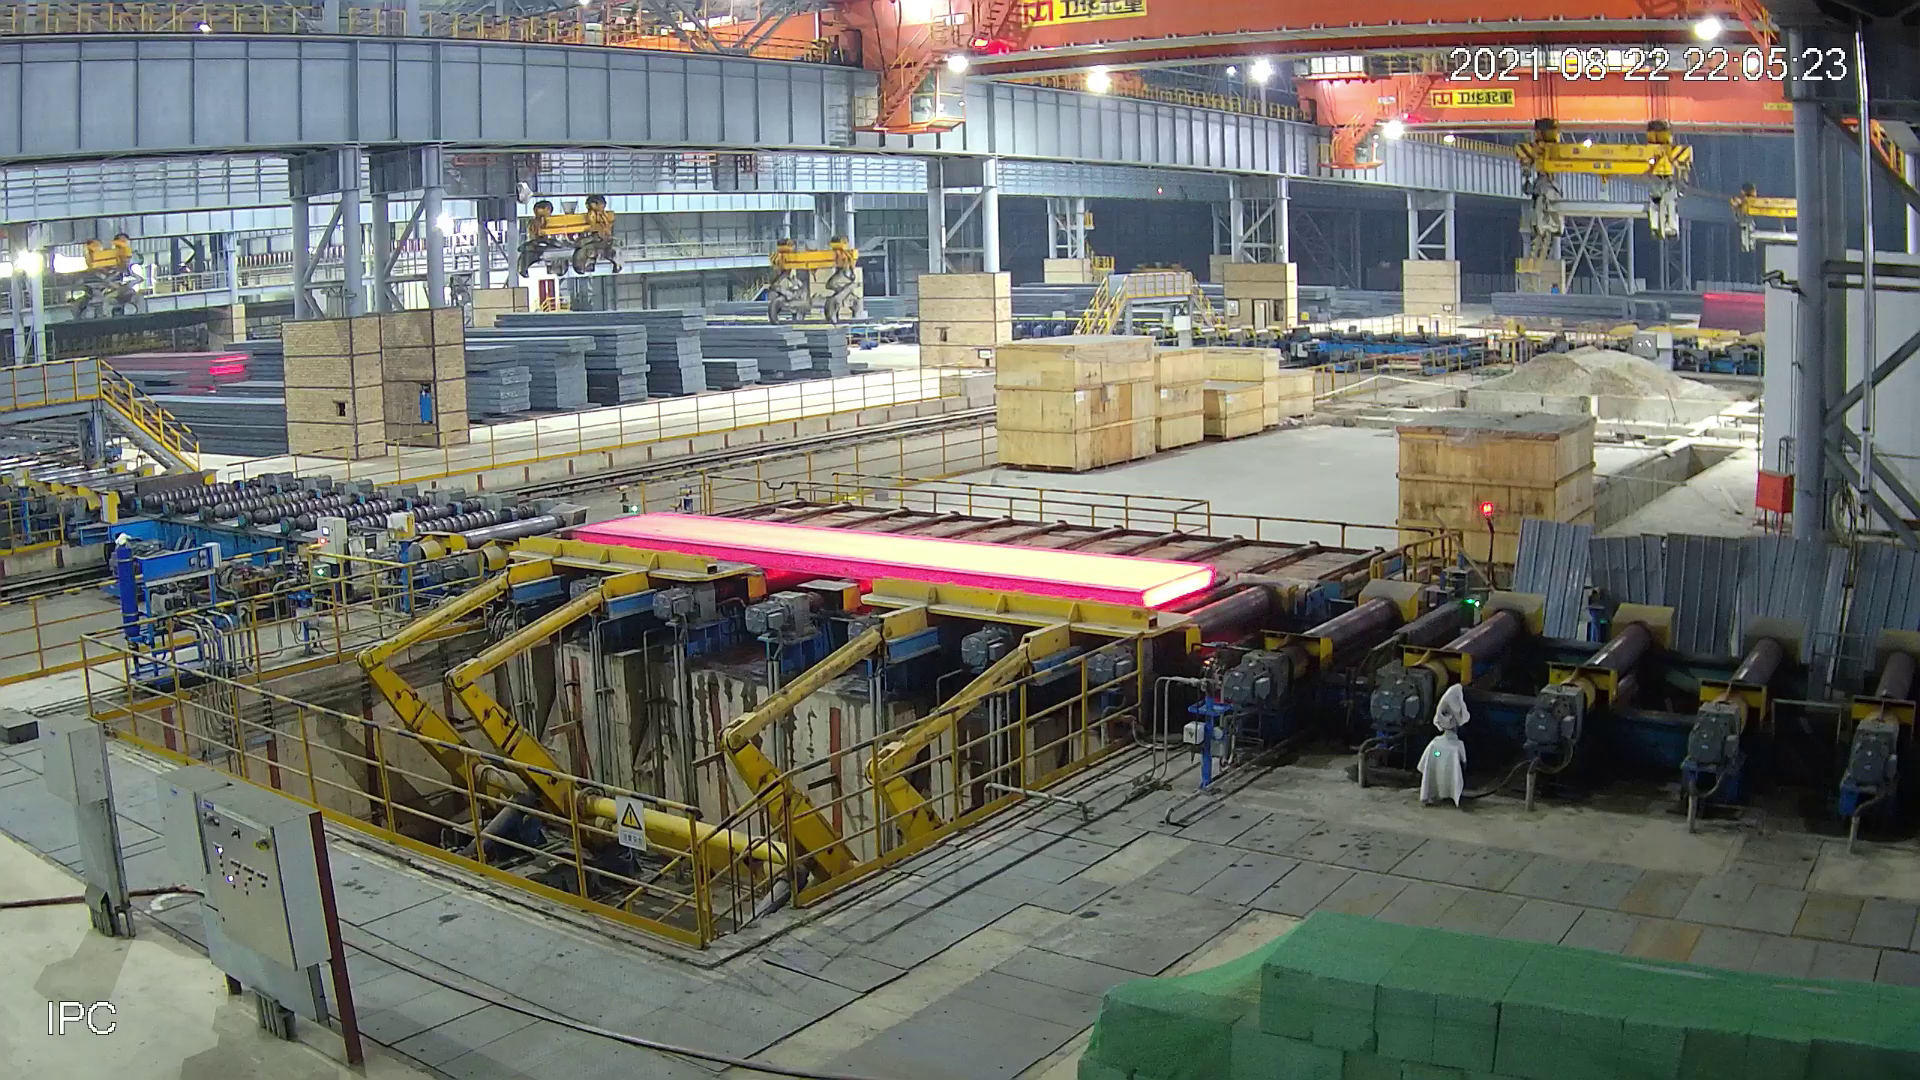slab: (564, 506, 1216, 611)
